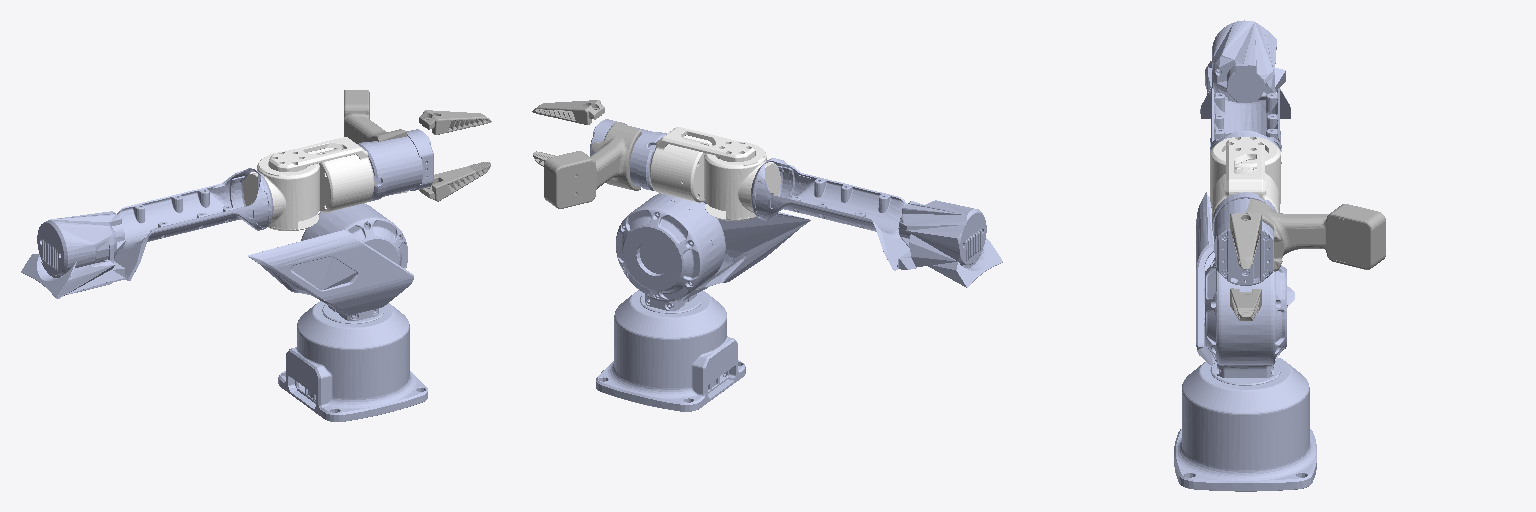
URDF robot description (A1_URDF_0607_0028):
<?xml version="1.0" encoding="utf-8"?>
<!-- This URDF was automatically created by SolidWorks to URDF Exporter! Originally created by [author] ([email redacted])
     Commit Version: 1.6.0-4-g7f85cfe  Build Version: 1.6.7995.38578
     For more information, please see http://wiki.ros.org/sw_urdf_exporter -->
<robot
  name="A1_URDF_0607_0028">
  <link
    name="base_link">
    <inertial>
      <origin
        xyz="-0.00056269 -4.1498E-06 0.038934"
        rpy="0 0 0" />
      <mass
        value="1.0" />
      <inertia
        ixx="0.0010597"
        ixy="1.6825E-07"
        ixz="1.9821E-05"
        iyy="0.0010647"
        iyz="1.9312E-07"
        izz="0.0011787" />
    </inertial>
    <visual>
      <origin
        xyz="0 0 0"
        rpy="0 0 0" />
      <geometry>
        <mesh
          filename="meshes/base_link.STL" />
      </geometry>
      <material
        name="">
        <color
          rgba="0.79216 0.81961 0.93333 1" />
      </material>
    </visual>
    <collision>
      <origin
        xyz="0 0 0"
        rpy="0 0 0" />
      <geometry>
        <mesh
          filename="meshes/base_link.STL" />
      </geometry>
    </collision>
  </link>
  <link
    name="arm_seg1">
    <inertial>
      <origin
        xyz="-1.4403E-06 -0.00074041 0.056573"
        rpy="0 0 0" />
      <mass
        value="1.391" />
      <inertia
        ixx="0.00058101"
        ixy="-7.5672E-09"
        ixz="-2.9207E-08"
        iyy="0.00070857"
        iyz="8.5639E-07"
        izz="0.00044583" />
    </inertial>
    <visual>
      <origin
        xyz="0 0 0"
        rpy="0 0 0" />
      <geometry>
        <mesh
          filename="meshes/arm_seg1.STL" />
      </geometry>
      <material
        name="">
        <color
          rgba="0.79216 0.81961 0.93333 1" />
      </material>
    </visual>
    <collision>
      <origin
        xyz="0 0 0"
        rpy="0 0 0" />
      <geometry>
        <mesh
          filename="meshes/arm_seg1.STL" />
      </geometry>
    </collision>
  </link>
  <joint
    name="arm_joint1"
    type="revolute">
    <origin
      xyz="-0.0011147 0 0.0892"
      rpy="0 0 3.1416" />
    <parent
      link="base_link" />
    <child
      link="arm_seg1" />
    <axis
      xyz="0 0 1" />
    <limit
      lower="-2.8798"
      upper="2.8798"
      effort="40"
      velocity="20.944" />
  </joint>
  <link
    name="arm_seg2">
    <inertial>
      <origin
        xyz="0.23622 0.016356 9.154E-05"
        rpy="0 0 0" />
      <mass
        value="1.3" />
      <inertia
        ixx="0.00060643"
        ixy="-0.00041827"
        ixz="0.00014951"
        iyy="0.0075939"
        iyz="8.093E-06"
        izz="0.0075715" />
    </inertial>
    <visual>
      <origin
        xyz="0 0 0"
        rpy="0 0 0" />
      <geometry>
        <mesh
          filename="meshes/arm_seg2.STL" />
      </geometry>
      <material
        name="">
        <color
          rgba="0.79216 0.81961 0.93333 1" />
      </material>
    </visual>
    <collision>
      <origin
        xyz="0 0 0"
        rpy="0 0 0" />
      <geometry>
        <mesh
          filename="meshes/arm_seg2.STL" />
      </geometry>
    </collision>
  </link>
  <joint
    name="arm_joint2"
    type="revolute">
    <origin
      xyz="0 -4E-05 0.0615"
      rpy="1.5708 0 0" />
    <parent
      link="arm_seg1" />
    <child
      link="arm_seg2" />
    <axis
      xyz="0 0 1" />
    <limit
      lower="0"
      upper="3.1415"
      effort="40"
      velocity="20.944" />
  </joint>
  <link
    name="arm_seg3">
    <inertial>
      <origin
        xyz="0.054443 0.045347 0.00042807"
        rpy="0 0 0" />
      <mass
        value="0.818" />
      <inertia
        ixx="0.0013904"
        ixy="-0.00022559"
        ixz="9.6874E-06"
        iyy="0.00059564"
        iyz="7.1658E-06"
        izz="0.0014962" />
    </inertial>
    <visual>
      <origin
        xyz="0 0 0"
        rpy="0 0 0" />
      <geometry>
        <mesh
          filename="meshes/arm_seg3.STL" />
      </geometry>
      <material
        name="">
        <color
          rgba="0.79216 0.81961 0.93333 1" />
      </material>
    </visual>
    <collision>
      <origin
        xyz="0 0 0"
        rpy="0 0 0" />
      <geometry>
        <mesh
          filename="meshes/arm_seg3.STL" />
      </geometry>
    </collision>
  </link>
  <joint
    name="arm_joint3"
    type="revolute">
    <origin
      xyz="0.34928 0.02 0"
      rpy="0 0 1.5708" />
    <parent
      link="arm_seg2" />
    <child
      link="arm_seg3" />
    <axis
      xyz="0 0 1" />
    <limit
      lower="-3.3161"
      upper="0"
      effort="27"
      velocity="7.5398" />
  </joint>
  <link
    name="arm_seg4">
    <inertial>
      <origin
        xyz="7.6256E-07 -0.0021448 0.27415"
        rpy="0 0 0" />
      <mass
        value="0.816" />
      <inertia
        ixx="9.7042E-05"
        ixy="-5.177E-09"
        ixz="-2.2681E-09"
        iyy="0.00010174"
        iyz="8.2528E-07"
        izz="8.4501E-05" />
    </inertial>
    <visual>
      <origin
        xyz="0 0 0"
        rpy="0 0 0" />
      <geometry>
        <mesh
          filename="meshes/arm_seg4.STL" />
      </geometry>
      <material
        name="">
        <color
          rgba="1 1 1 1" />
      </material>
    </visual>
    <collision>
      <origin
        xyz="0 0 0"
        rpy="0 0 0" />
      <geometry>
        <mesh
          filename="meshes/arm_seg4.STL" />
      </geometry>
    </collision>
  </link>
  <joint
    name="arm_joint4"
    type="revolute">
    <origin
      xyz="0.07 -0.00395 -4E-05"
      rpy="-1.5708 1.5708 0" />
    <parent
      link="arm_seg3" />
    <child
      link="arm_seg4" />
    <axis
      xyz="0 0 1" />
    <limit
      lower="-2.8798"
      upper="2.8798"
      effort="7"
      velocity="25.133" />
  </joint>
  <link
    name="arm_seg5">
    <inertial>
      <origin
        xyz="-3.9997E-06 -0.05431 0.0034482"
        rpy="0 0 0" />
      <mass
        value="0.801" />
      <inertia
        ixx="0.00011332"
        ixy="7.432E-08"
        ixz="1.368E-08"
        iyy="8.3999E-05"
        iyz="-1.6234E-05"
        izz="9.8497E-05" />
    </inertial>
    <visual>
      <origin
        xyz="0 0 0"
        rpy="0 0 0" />
      <geometry>
        <mesh
          filename="meshes/arm_seg5.STL" />
      </geometry>
      <material
        name="">
        <color
          rgba="1 1 1 1" />
      </material>
    </visual>
    <collision>
      <origin
        xyz="0 0 0"
        rpy="0 0 0" />
      <geometry>
        <mesh
          filename="meshes/arm_seg5.STL" />
      </geometry>
    </collision>
  </link>
  <joint
    name="arm_joint5"
    type="revolute">
    <origin
      xyz="0 0 0.2776"
      rpy="-1.5708 0 3.1416" />
    <parent
      link="arm_seg4" />
    <child
      link="arm_seg5" />
    <axis
      xyz="0 0 1" />
    <limit
      lower="-1.6581"
      upper="1.6581"
      effort="7"
      velocity="25.133" />
  </joint>
  <link
    name="arm_seg6">
    <inertial>
      <origin
        xyz="2.406E-06 -9.4582E-08 -0.038796"
        rpy="0 0 0" />
      <mass
        value="0.465" />
      <inertia
        ixx="0.00011445"
        ixy="3.336E-10"
        ixz="1.4799E-08"
        iyy="0.00011239"
        iyz="-6.1057E-10"
        izz="7.4519E-05" />
    </inertial>
    <visual>
      <origin
        xyz="0 0 0"
        rpy="0 0 0" />
      <geometry>
        <mesh
          filename="meshes/arm_seg6.STL" />
      </geometry>
      <material
        name="">
        <color
          rgba="0.79216 0.81961 0.93333 1" />
      </material>
    </visual>
    <collision>
      <origin
        xyz="0 0 0"
        rpy="0 0 0" />
      <geometry>
        <mesh
          filename="meshes/arm_seg6.STL" />
      </geometry>
    </collision>
  </link>
  <joint
    name="arm_joint6"
    type="revolute">
    <origin
      xyz="0 -0.1575 -0.00023266"
      rpy="1.5708 0 0" />
    <parent
      link="arm_seg5" />
    <child
      link="arm_seg6" />
    <axis
      xyz="0 0 1" />
    <limit
      lower="-2.8798"
      upper="2.8798"
      effort="7"
      velocity="25.133" />
  </joint>

  <link
    name="galaxea_eoat_set">
    <inertial>
      <origin
        xyz="0.038663 0.0052511 0.033214"
        rpy="0 0 0" />
      <mass
        value="0.6938" />
      <inertia
        ixx="0.00027913"
        ixy="-6.0421E-05"
        ixz="-5.4728E-05"
        iyy="0.00064497"
        iyz="-3.0877E-06"
        izz="0.00077194" />
    </inertial>
    <visual>
      <origin
        xyz="0 0 0"
        rpy="0 0 0" />
      <geometry>
        <mesh
          filename="meshes/galaxea_eoat_set.STL" />
      </geometry>
      <material
        name="">
        <color
          rgba="0.75294 0.75294 0.75294 0.25" />
      </material>
    </visual>
    <collision>
      <origin
        xyz="0 0 0"
        rpy="0 0 0" />
      <geometry>
        <mesh
          filename="meshes/galaxea_eoat_set.STL" />
      </geometry>
    </collision>
  </link>
  <joint
    name="gripper_base"
    type="fixed">
    <origin
      xyz="0 0 -0.063796"
      rpy="0 0 0" />
    <parent
      link="arm_seg6" />
    <child
      link="galaxea_eoat_set" />
  </joint>
  <link
    name="left_finger">
    <inertial>
      <origin
        xyz="-3.90917384556896E-05 -0.00649250474810514 0.0207255062669611"
        rpy="0 0 0" />
      <mass
        value="0.0920110790452592" />
      <inertia
        ixx="3.48290246126205E-05"
        ixy="2.04328856057193E-08"
        ixz="2.37761311540573E-08"
        iyy="3.68651520498616E-05"
        iyz="5.51630448380784E-06"
        izz="7.45355951572534E-06" />
    </inertial>
    <visual>
      <origin
        xyz="0 0 0"
        rpy="0 0 0" />
      <geometry>
        <mesh
          filename="meshes/left_finger.STL" />
      </geometry>
      <material
        name="">
        <color
          rgba="0.752941176470588 0.752941176470588 0.752941176470588 1" />
      </material>
    </visual>
    <collision>
      <origin
        xyz="0 0 0"
        rpy="0 0 0" />
      <geometry>
        <mesh
          filename="meshes/left_finger.STL" />
      </geometry>
    </collision>
  </link>
  <joint
    name="gripper1_axis"
    type="prismatic">
    <origin
      xyz="0.00025714 0.041492 0.0697"
      rpy="0 0 0" />
    <parent
      link="galaxea_eoat_set" />
    <child
      link="left_finger" />
    <axis
      xyz="0.0014394 -1 0" />
    <limit
      lower="-0.03"
      upper="0.025"
      effort="200"
      velocity="0.25" />
  </joint>
  <link
    name="right_finger">
    <inertial>
      <origin
        xyz="3.91099511327749E-05 0.00648979082324309 0.0207159684922629"
        rpy="0 0 0" />
      <mass
        value="0.0919870173102554" />
      <inertia
        ixx="3.47910627699934E-05"
        ixy="2.04231949747381E-08"
        ixz="-2.37409672673054E-08"
        iyy="3.68293712650282E-05"
        iyz="-5.50690596172677E-06"
        izz="7.45049627521304E-06" />
    </inertial>
    <visual>
      <origin
        xyz="0 0 0"
        rpy="0 0 0" />
      <geometry>
        <mesh
          filename="meshes/right_finger.STL" />
      </geometry>
      <material
        name="">
        <color
          rgba="0.752941176470588 0.752941176470588 0.752941176470588 1" />
      </material>
    </visual>
    <collision>
      <origin
        xyz="0 0 0"
        rpy="0 0 0" />
      <geometry>
        <mesh
          filename="meshes/right_finger.STL" />
      </geometry>
    </collision>
  </link>
  <joint
    name="gripper2_axis"
    type="prismatic">
    <origin
      xyz="0.00014129 -0.041492 0.0697"
      rpy="0 0 0" />
    <parent
      link="galaxea_eoat_set" />
    <child
      link="right_finger" />
    <axis
      xyz="-0.0014394 1 0" />
    <limit
      lower="-0.03"
      upper="0.025"
      effort="500"
      velocity="100.0" />
    <mimic joint="gripper1_axis" />
  </joint>
  <link
    name="camera">
    <inertial>
      <origin
        xyz="3.32909144695748E-10 0.00899999999999997 -0.0100251486012818"
        rpy="0 0 0" />
      <mass
        value="0.310715587504562" />
      <inertia
        ixx="5.64535703836282E-05"
        ixy="-6.13608182641762E-21"
        ixz="1.13502414932076E-19"
        iyy="5.64535703836282E-05"
        iyz="-5.07331090054205E-22"
        izz="8.66759616679051E-05" />
    </inertial>
    <visual>
      <origin
        xyz="0 0 0"
        rpy="0 0 0" />
      <geometry>
        <mesh
          filename="meshes/camera.STL" />
      </geometry>
      <material
        name="">
        <color
          rgba="0.752941176470588 0.752941176470588 0.752941176470588 1" />
      </material>
    </visual>
    <collision>
      <origin
        xyz="0 0 0"
        rpy="0 0 0" />
      <geometry>
        <mesh
          filename="meshes/camera.STL" />
      </geometry>
    </collision>
  </link>
  <joint
    name="camera"
    type="fixed">
    <origin
      xyz="0.092689 0 0.052958"
      rpy="0 -0.5236 0" />
    <parent
      link="galaxea_eoat_set" />
    <child
      link="camera" />
    <axis
      xyz="0 0 0" />
  </joint>


  <!-- Define the TCP (tool center point) frame -->
  <link name="tcp"/>
  <joint name="tcp_joint" type="fixed">
    <origin
      xyz="0 0 0.06"
      rpy="0 0 0" />
    <parent
      link="galaxea_eoat_set" />
    <child
      link="tcp" />
  </joint>

  <link name="tool_tip"/>
  <joint name="tool_tip_joint" type="fixed">
    <origin
      xyz="0 0 0.018"
      rpy="0 0 0" />
    <parent
      link="tcp" />
    <child
      link="tool_tip" />
  </joint>
</robot>

--- Facts derived from the render (not from the file) ---
Views: 3 orthographic renders of the robot side by side, from view 1: azimuth 30°, elevation 25°; view 2: azimuth 150°, elevation 25°; view 3: azimuth 270°, elevation 25°.
Robot: A1_URDF_0607_0028 — 13 links, 12 joints (6 revolute, 2 prismatic, 4 fixed); root link base_link; default pose: every joint at zero.
Links seen in each view (by area): view 1: arm_seg3, base_link, arm_seg2, arm_seg5, arm_seg1, arm_seg6, arm_seg4, galaxea_eoat_set, right_finger, left_finger; view 2: arm_seg3, base_link, arm_seg1, galaxea_eoat_set, arm_seg5, arm_seg4, arm_seg2, arm_seg6, left_finger; view 3: base_link, arm_seg3, arm_seg1, galaxea_eoat_set, arm_seg6, arm_seg5, arm_seg2, camera, arm_seg4, left_finger, right_finger.
Link boxes in pixels (x1,y1,x2,y2): arm_seg3: (21, 168, 273, 298); base_link: (278, 301, 427, 421); arm_seg2: (248, 229, 413, 315); arm_seg5: (269, 137, 374, 212); arm_seg1: (301, 203, 407, 323); arm_seg6: (358, 129, 433, 201); arm_seg4: (243, 152, 319, 230); galaxea_eoat_set: (344, 90, 407, 194); right_finger: (419, 162, 490, 201); left_finger: (419, 110, 491, 134); arm_seg3: (751, 158, 1002, 287); base_link: (596, 290, 745, 411); arm_seg1: (616, 193, 725, 313); galaxea_eoat_set: (544, 122, 641, 208); arm_seg5: (650, 127, 754, 202); arm_seg4: (704, 142, 780, 220); arm_seg2: (683, 201, 810, 300); arm_seg6: (590, 119, 666, 190); left_finger: (532, 100, 604, 124); base_link: (1174, 358, 1316, 491); arm_seg3: (1200, 20, 1290, 163); arm_seg1: (1205, 257, 1286, 385); galaxea_eoat_set: (1246, 199, 1385, 271); arm_seg6: (1212, 192, 1276, 285); arm_seg5: (1212, 137, 1279, 219); arm_seg2: (1196, 192, 1294, 366); camera: (1329, 217, 1368, 266); arm_seg4: (1210, 137, 1280, 212); left_finger: (1230, 213, 1261, 268); right_finger: (1230, 288, 1261, 320).
Size in the robot's own frame: 0.5275 by 0.1892 by 0.2869 metres.
Meshes: 11 distinct files referenced, 11 mesh visuals loaded (11 binary STL).